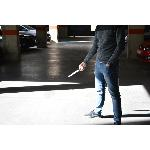Pisau: (60, 58, 88, 82)
